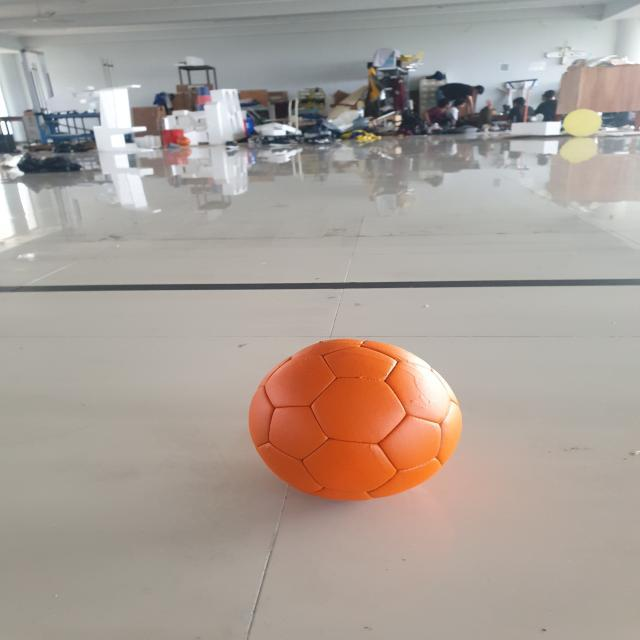bola: (247, 333, 463, 509)
